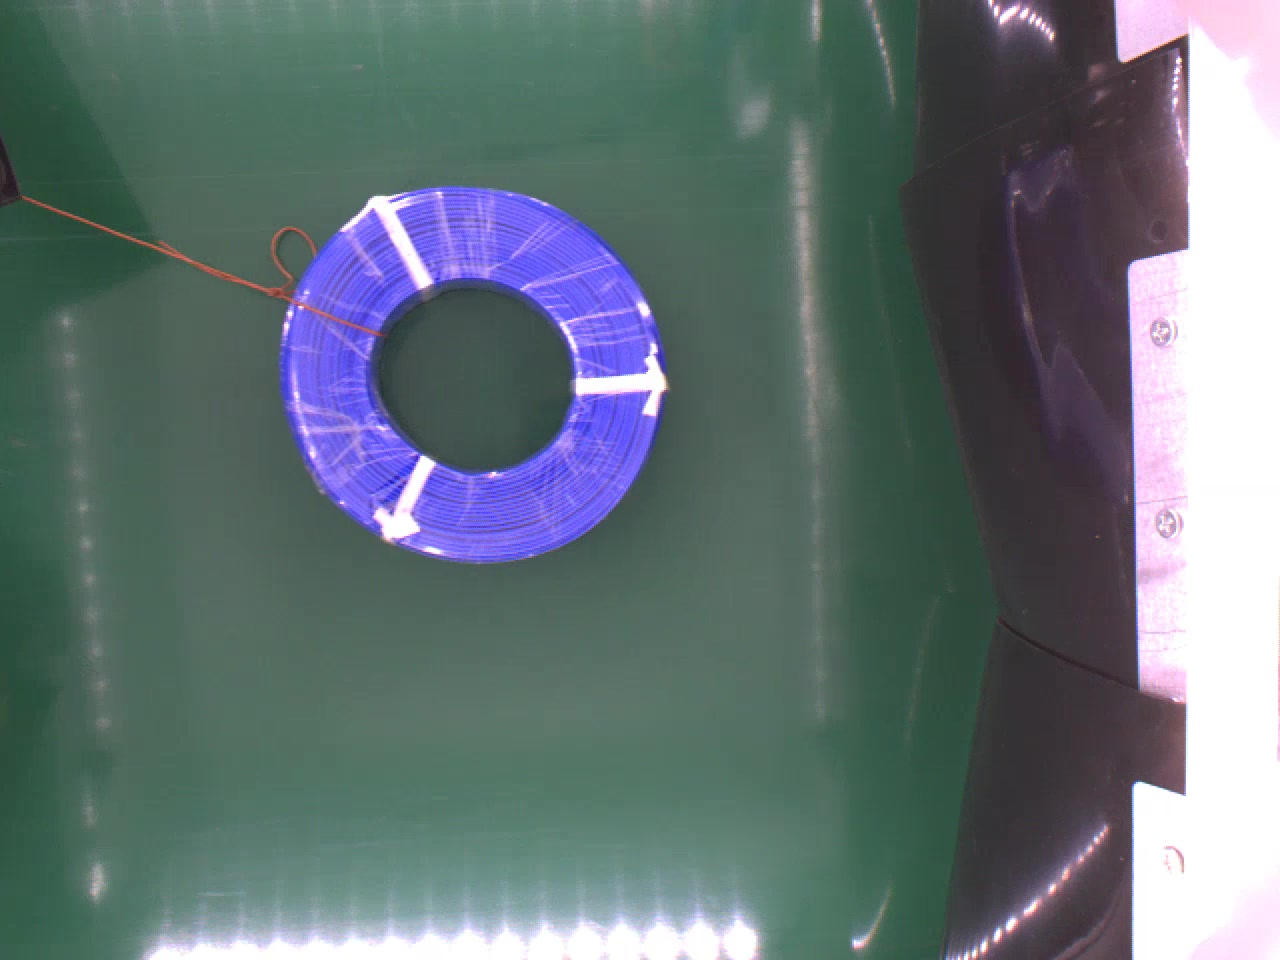blue: (273, 181, 662, 559)
